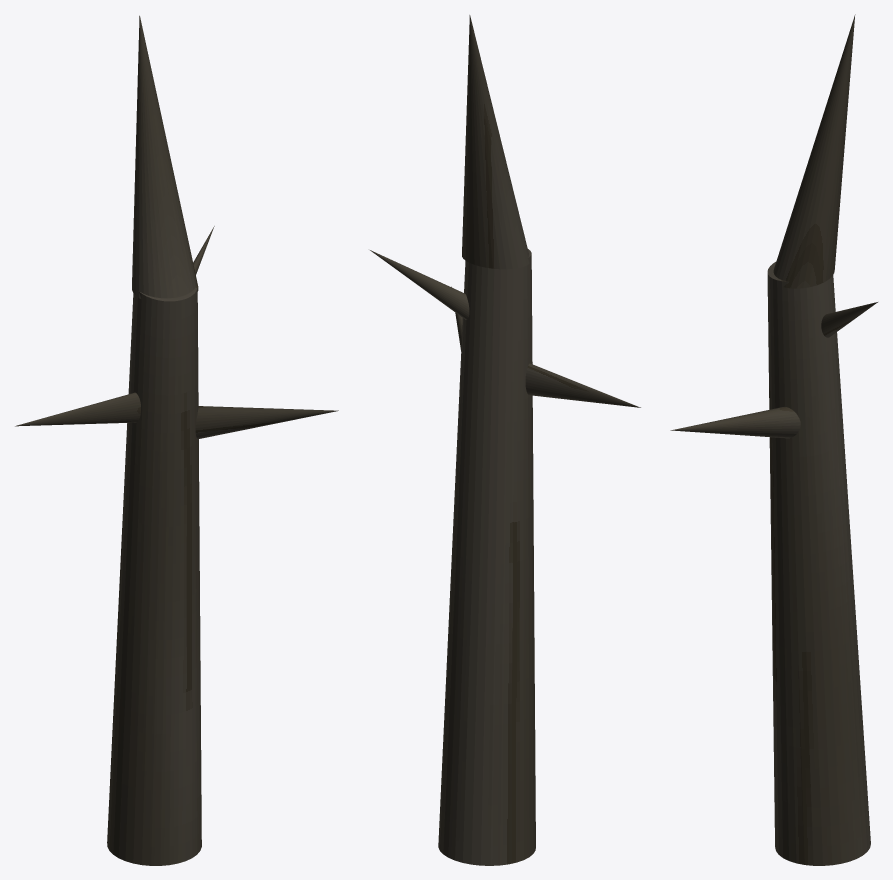
Rendered from ObjectDeadTree.dae.
The picture shows the model from 3 angles, left to right: view 1: azimuth 30°, elevation 25°; view 2: azimuth 150°, elevation 25°; view 3: azimuth 270°, elevation 25°; orthographic projection. The views are drawn at different scales.
Visible parts, largest first — view 1: Cylinder, Cone, Cone.001, Cone.003; view 2: Cylinder, Cone, Cone.003, Cone.002; view 3: Cylinder, Cone, Cone.001, Cone.002.
Boxes of the visible parts, x1,y1,x2,y2 form: Cylinder: (107, 283, 201, 865); Cone: (132, 15, 198, 298); Cone.001: (195, 406, 338, 439); Cone.003: (15, 392, 140, 426); Cylinder: (438, 249, 535, 865); Cone: (462, 15, 529, 269); Cone.003: (525, 363, 640, 407); Cone.002: (370, 250, 469, 319); Cylinder: (767, 261, 870, 865); Cone: (773, 14, 855, 288); Cone.001: (670, 407, 800, 438); Cone.002: (821, 302, 877, 337).
Bounding box in the file's own units: 2.2 × 1.53 × 6.74.
